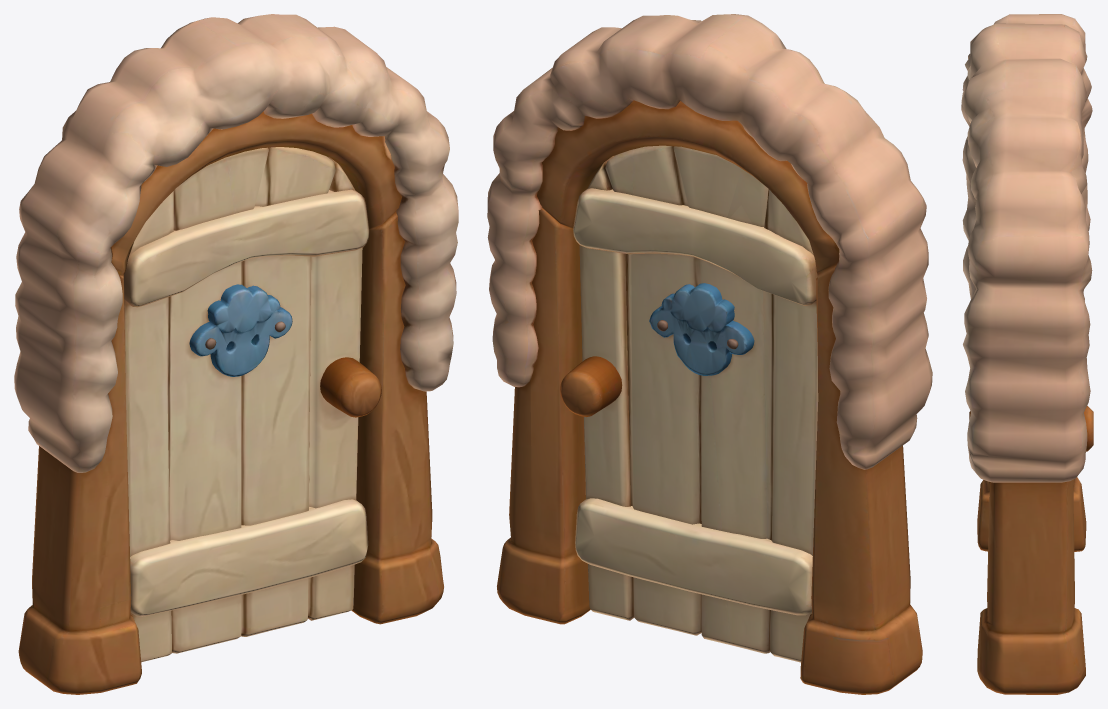
The model's file is porte_laineux.glb.
3 views of the same model, side by side, from view 1: azimuth 30°, elevation 25°; view 2: azimuth 150°, elevation 25°; view 3: azimuth 270°, elevation 25° (orthographic). The views are drawn at different scales.
Parts seen in each view (by area): view 1: geometry_0; view 2: geometry_0; view 3: geometry_0.
Boxes of the visible parts, x1,y1,x2,y2 form: geometry_0: [14, 14, 458, 694]; geometry_0: [487, 14, 932, 694]; geometry_0: [961, 14, 1093, 694].
Size of the model in its own units: 0.6597 by 0.9526 by 0.1992.
1 material, 1 textured.
